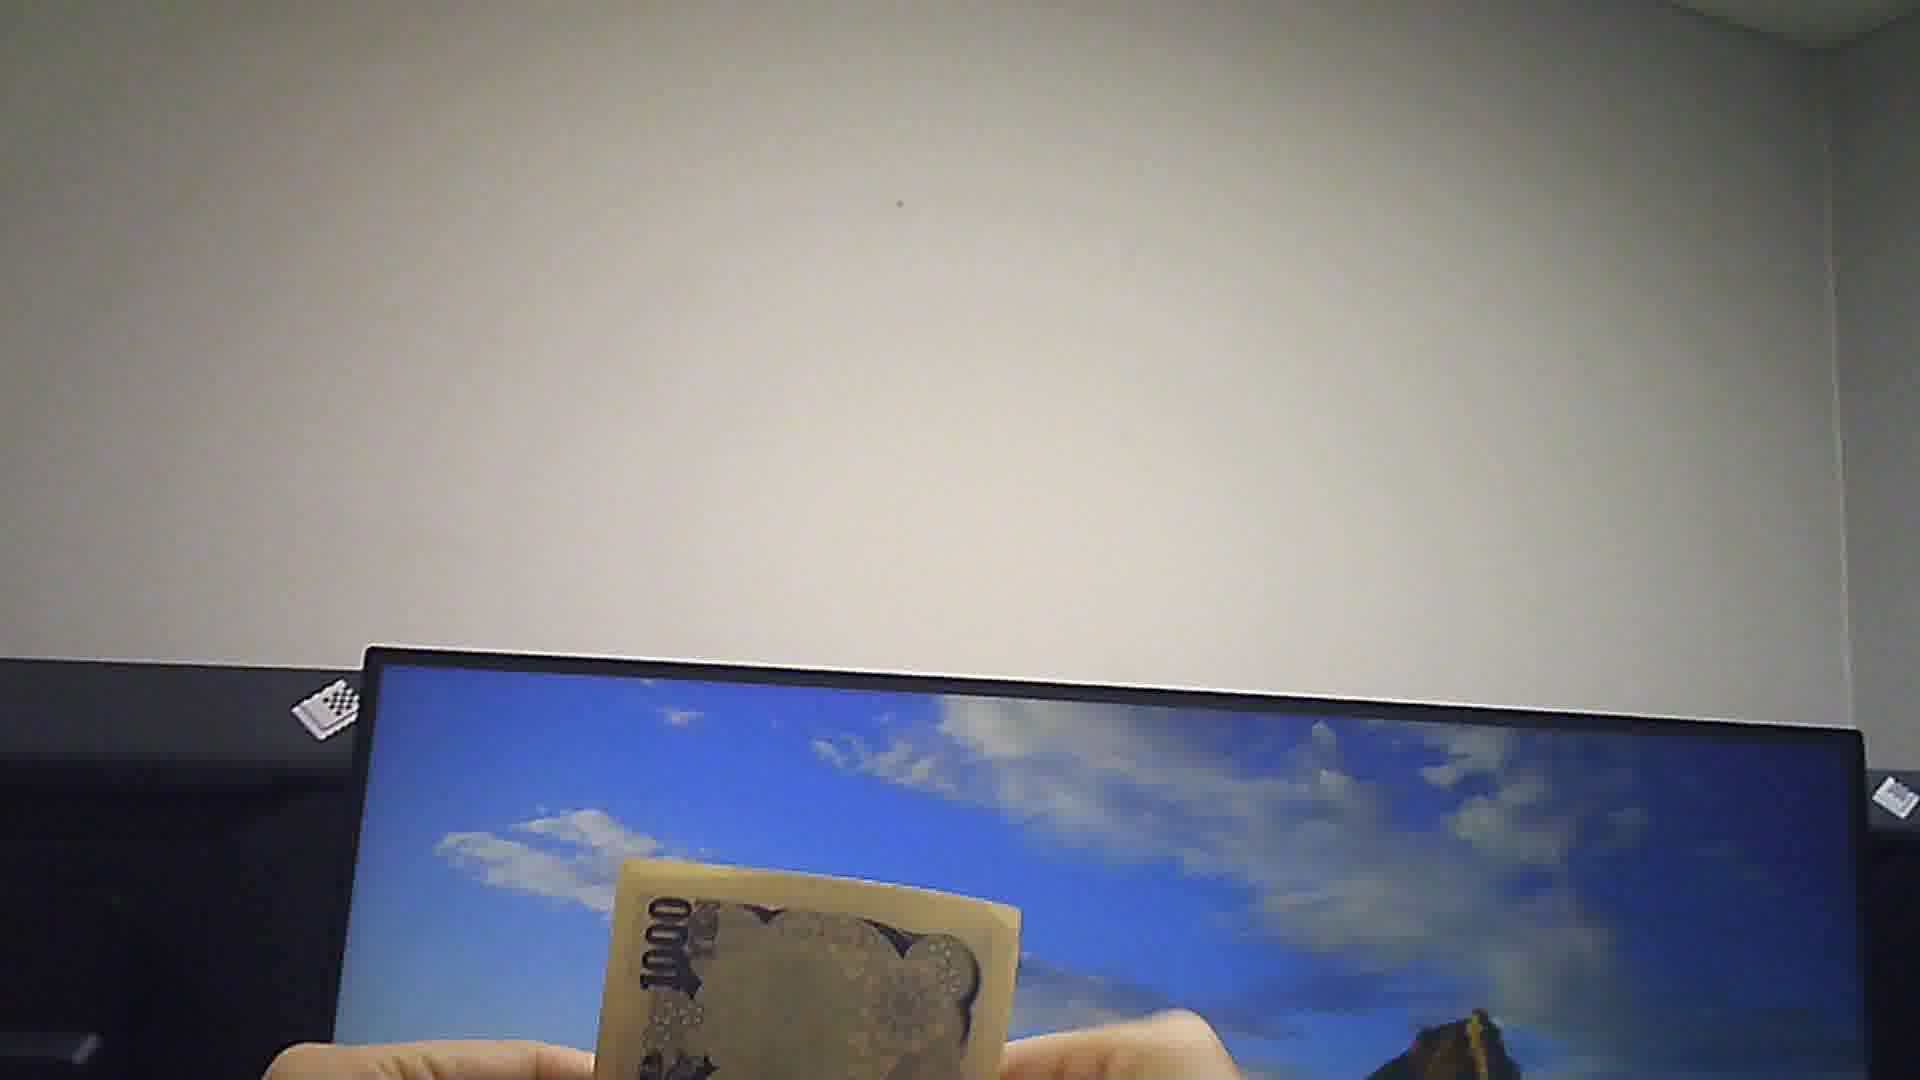1,000 Yen: (583, 851, 1021, 1079)
